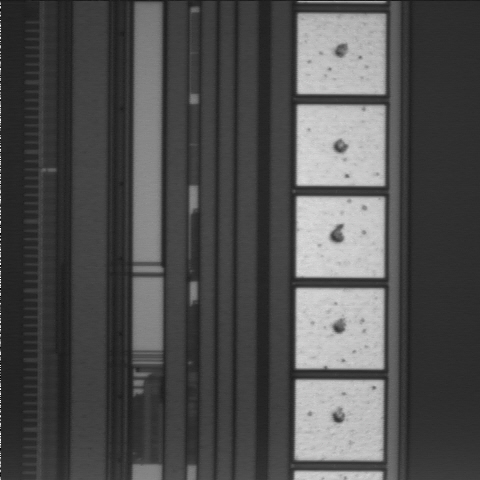pad: (296, 288, 383, 369), (295, 380, 383, 460), (297, 106, 384, 186), (297, 197, 384, 277), (298, 14, 384, 94)
